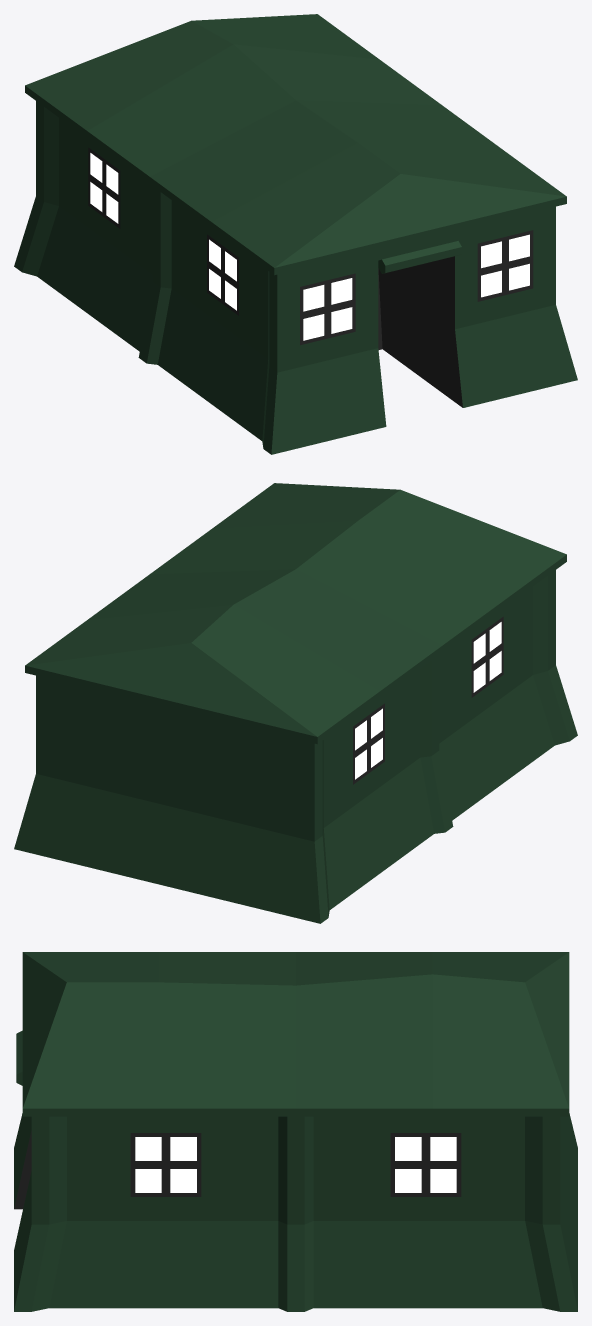
The model's file is military-military-tent.glb.
The picture shows the model from 3 angles, top to bottom: view 1: azimuth 30°, elevation 25°; view 2: azimuth 150°, elevation 25°; view 3: azimuth 270°, elevation 25°; orthographic projection. The views are drawn at different scales.
Visible parts, largest first — view 1: military-tent; view 2: military-tent; view 3: military-tent.
Boxes of the visible parts, <box> form: military-tent: <box>14,14,577,454</box>; military-tent: <box>14,483,577,923</box>; military-tent: <box>14,952,577,1311</box>.
Size of the model in its own units: 4.4 by 3.2 by 6.4.
